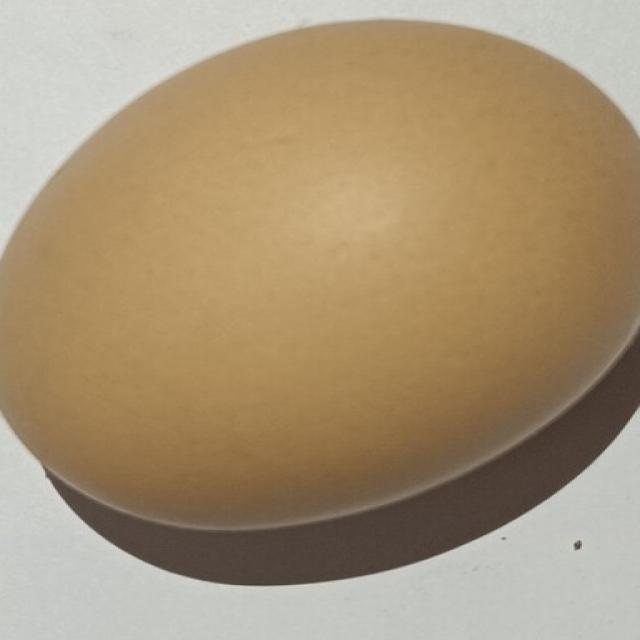fresh: (0, 16, 640, 528)
